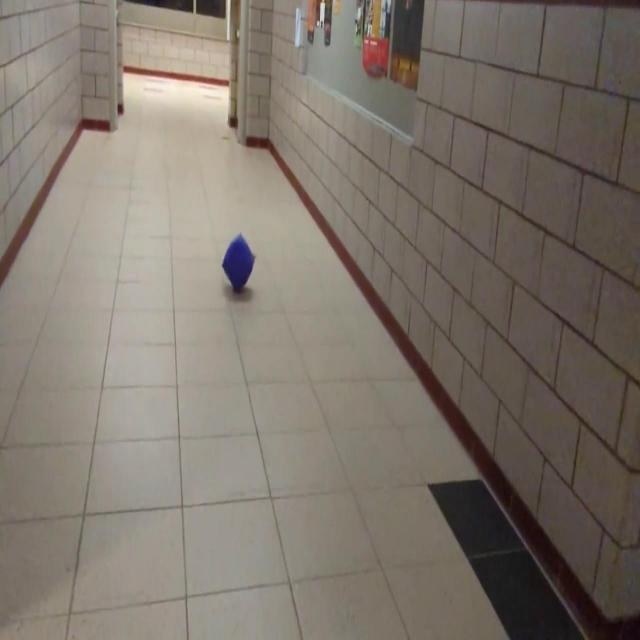frc_cube: (225, 238, 253, 291)
